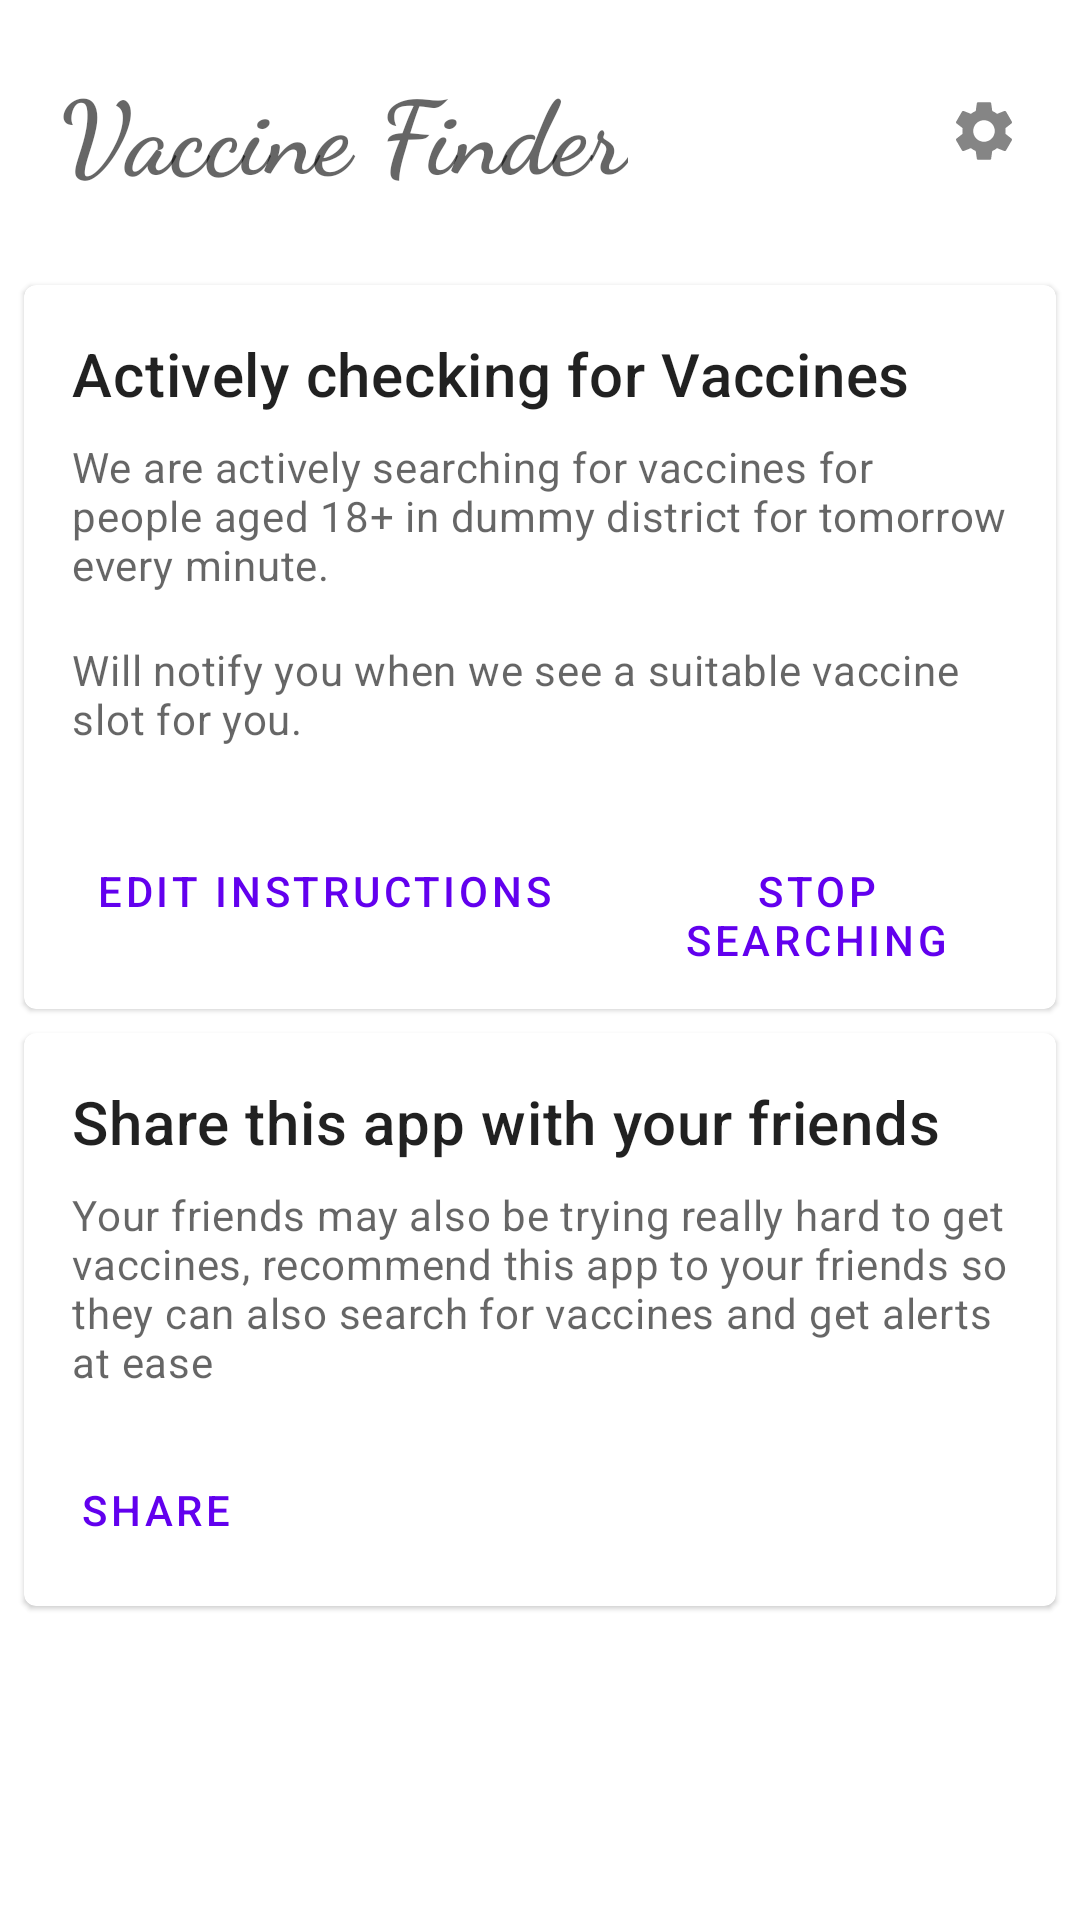

Screen size 1080*1920. Icon name, then its box in pixels as (x1, y1, x2, y2):
settings: (956, 102, 1012, 160)
